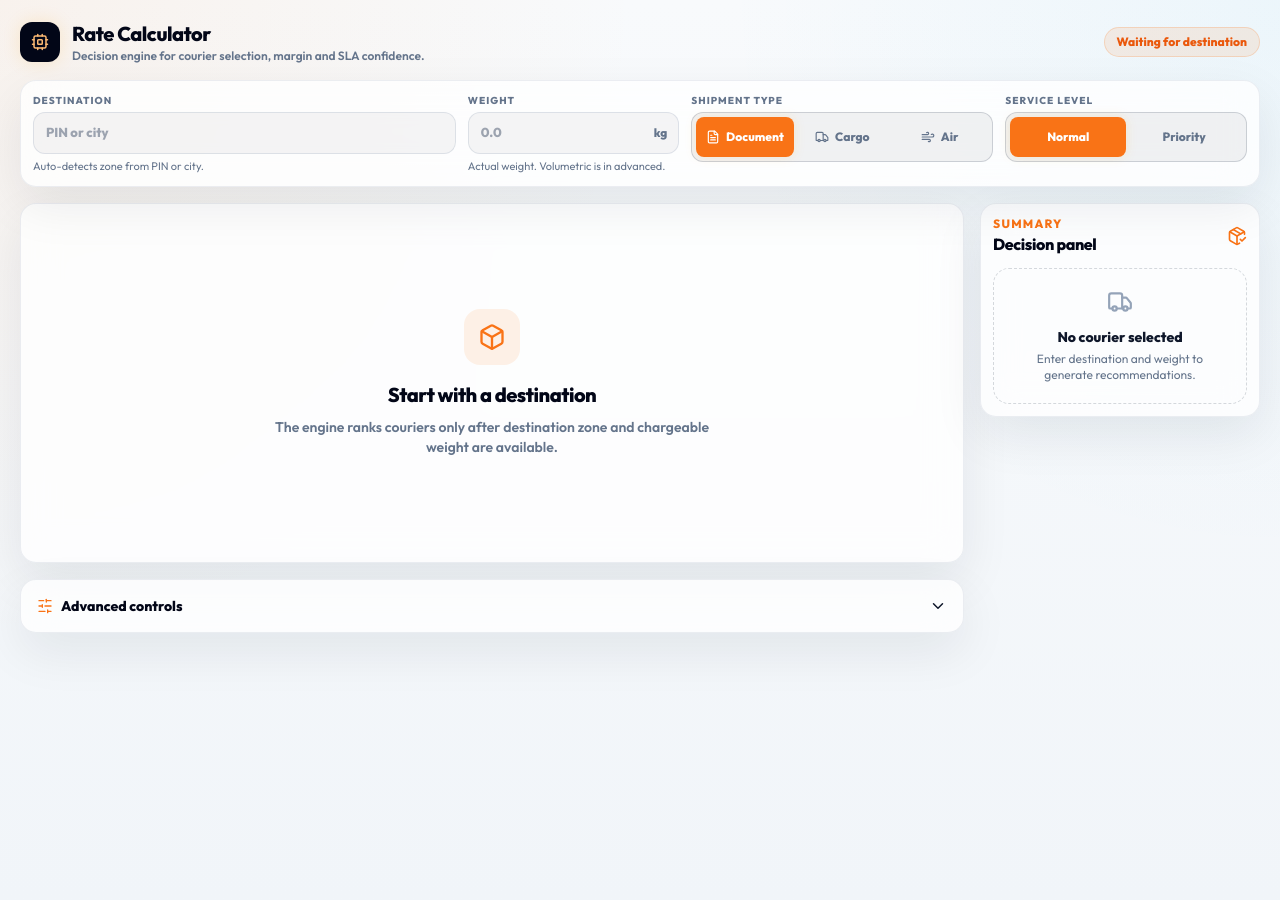
RateCalculatorPage › opens advanced controls when clicked
Click the button "Advanced controls" at (122, 606), box [37,596,947,616]
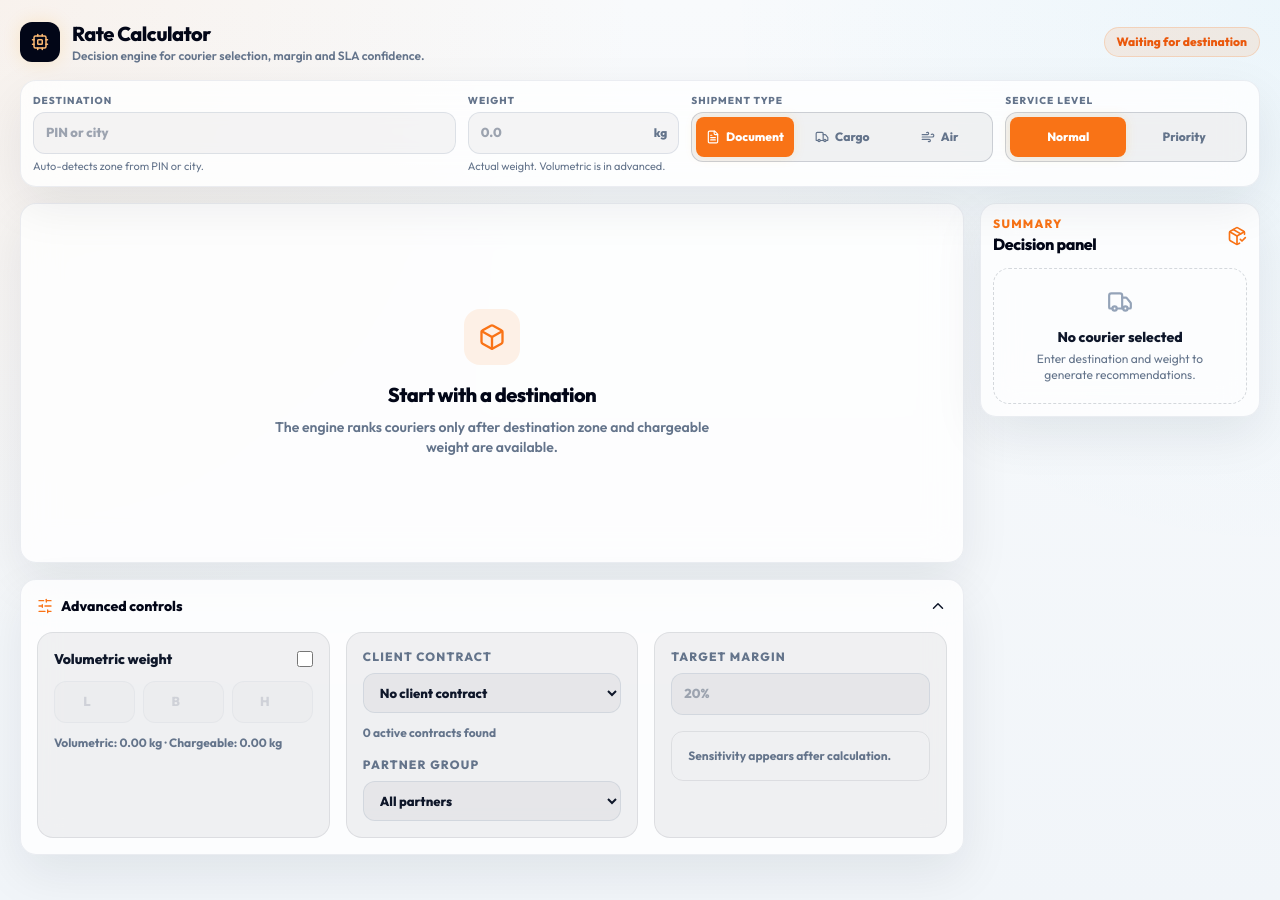
Check: the number field with placeholder "L" is shown, box [54,681,135,722]
Check: the number field with placeholder "B" is shown, box [143,681,224,722]
Check: the number field with placeholder "H" is shown, box [232,681,313,722]
